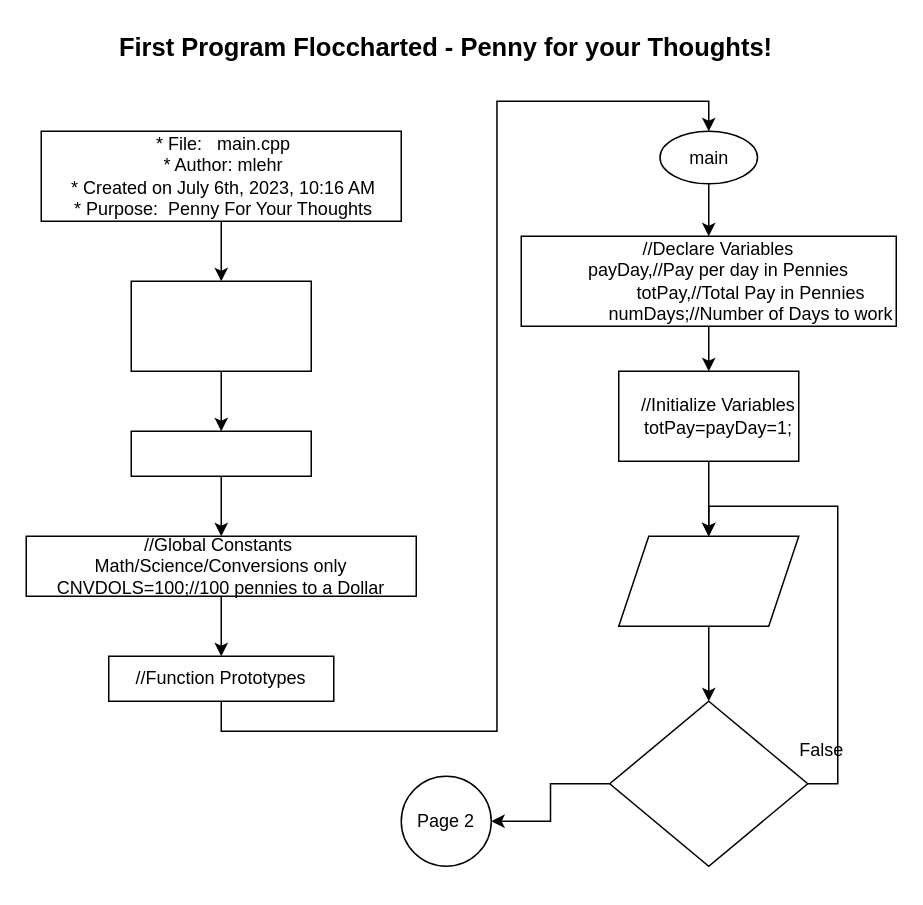
Some shapes in this 923 by 905 pixel diagram are drawn without their labels. Each missing label, with the centre of its shape:
"!(numDays>=1 && numDays<=31)" goes at point 708,783.
"//System Libraries #include <iostream> using namespace std;" goes at point 220,325.
"//User Libraries" goes at point 220,453.
"I/O numDays" goes at point 708,580.
